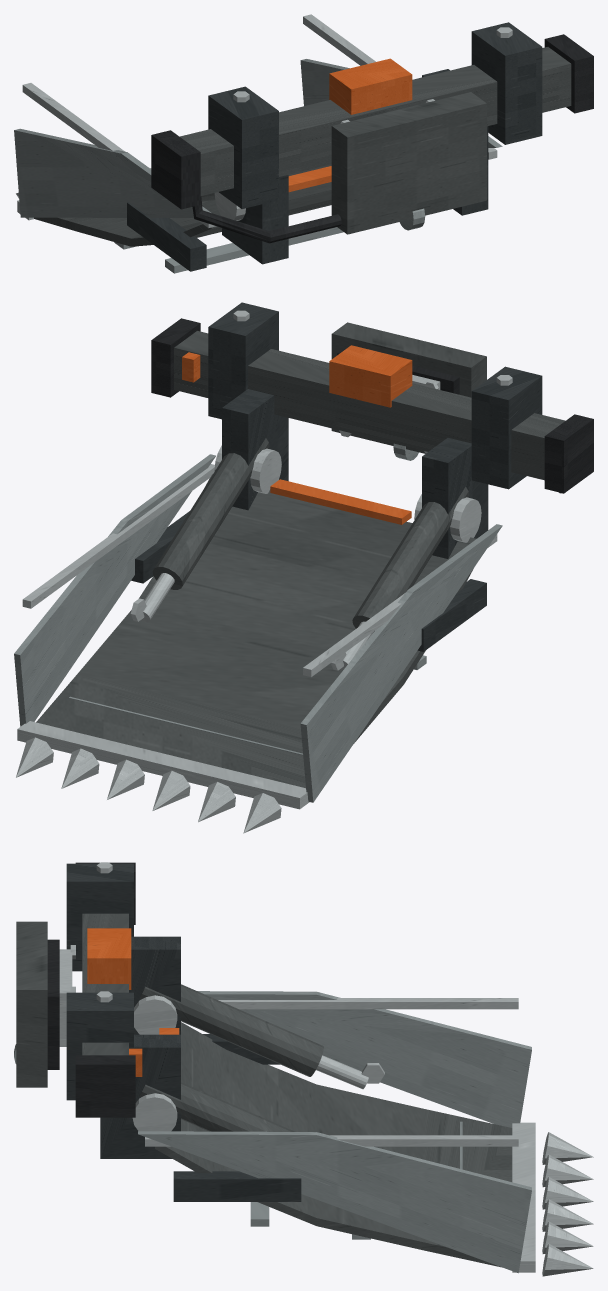
File: gary_scoop.glb
3 views of the same model, one above another, from view 1: azimuth 30°, elevation 25°; view 2: azimuth 150°, elevation 25°; view 3: azimuth 270°, elevation 25° (orthographic).
Visible parts, largest first — view 1: rear_key_plate_dark_alloy, cross_bar_dark_alloy, side_cheek_-1_alloy, bracket_R_graphite, bracket_L_graphite, scoop_bowl_dark_alloy, front_tool_latch_orange, bar_endcap_L_black_rubber, bucket_pivot_pylon_-1_graphite, cheek_reinforcement_-1_graphite, bar_endcap_R_black_rubber, main_supply_lead_black_rubber (+7 smaller); view 2: scoop_bowl_dark_alloy, cross_bar_dark_alloy, side_cheek_-1_alloy, side_cheek_1_alloy, bracket_L_graphite, cutting_edge_satin_steel, bracket_R_graphite, scoop_hydraulic_body_1_dark_alloy, rear_key_plate_dark_alloy, scoop_hydraulic_body_-1_dark_alloy, bucket_pivot_pylon_1_graphite, bucket_pivot_pylon_-1_graphite (+17 smaller); view 3: side_cheek_1_alloy, scoop_bowl_dark_alloy, side_cheek_-1_alloy, scoop_hydraulic_body_-1_dark_alloy, rear_key_plate_dark_alloy, bucket_pivot_pylon_1_graphite, bracket_L_graphite, bracket_R_graphite, bar_endcap_R_black_rubber, cheek_reinforcement_1_graphite, side_rail_-1_satin_steel, bucket_pivot_pylon_-1_graphite (+17 smaller).
Part boxes in pixels (x1=…): rear_key_plate_dark_alloy: x1=331, y1=92, x2=486, y2=234; cross_bar_dark_alloy: x1=180, y1=47, x2=571, y2=195; side_cheek_-1_alloy: x1=14, y1=128, x2=210, y2=217; bracket_R_graphite: x1=471, y1=22, x2=542, y2=144; bracket_L_graphite: x1=208, y1=86, x2=278, y2=208; scoop_bowl_dark_alloy: x1=34, y1=164, x2=331, y2=246; front_tool_latch_orange: x1=329, y1=58, x2=412, y2=114; bar_endcap_L_black_rubber: x1=151, y1=130, x2=200, y2=209; bucket_pivot_pylon_-1_graphite: x1=222, y1=175, x2=288, y2=264; cheek_reinforcement_-1_graphite: x1=127, y1=202, x2=206, y2=271; bar_endcap_R_black_rubber: x1=544, y1=34, x2=593, y2=113; main_supply_lead_black_rubber: x1=192, y1=196, x2=341, y2=243; scoop_bowl_dark_alloy: x1=36, y1=474, x2=476, y2=788; cross_bar_dark_alloy: x1=174, y1=331, x2=565, y2=480; side_cheek_-1_alloy: x1=300, y1=524, x2=502, y2=802; side_cheek_1_alloy: x1=14, y1=454, x2=215, y2=726; bracket_L_graphite: x1=471, y1=366, x2=542, y2=489; cutting_edge_satin_steel: x1=17, y1=721, x2=309, y2=809; bracket_R_graphite: x1=208, y1=302, x2=278, y2=419; scoop_hydraulic_body_1_dark_alloy: x1=152, y1=438, x2=269, y2=589; rear_key_plate_dark_alloy: x1=331, y1=322, x2=486, y2=453; scoop_hydraulic_body_-1_dark_alloy: x1=352, y1=487, x2=469, y2=632; bucket_pivot_pylon_1_graphite: x1=222, y1=389, x2=288, y2=510; bucket_pivot_pylon_-1_graphite: x1=422, y1=438, x2=488, y2=558; side_cheek_1_alloy: x1=138, y1=1131, x2=531, y2=1273; scoop_bowl_dark_alloy: x1=155, y1=1022, x2=512, y2=1267; side_cheek_-1_alloy: x1=197, y1=991, x2=531, y2=1127; scoop_hydraulic_body_-1_dark_alloy: x1=139, y1=984, x2=323, y2=1076; rear_key_plate_dark_alloy: x1=16, y1=921, x2=47, y2=1087; bucket_pivot_pylon_1_graphite: x1=100, y1=1034, x2=180, y2=1158; bracket_L_graphite: x1=66, y1=863, x2=133, y2=971; bracket_R_graphite: x1=66, y1=992, x2=133, y2=1100; bar_endcap_R_black_rubber: x1=75, y1=1055, x2=135, y2=1117; cheek_reinforcement_1_graphite: x1=173, y1=1171, x2=301, y2=1201; side_rail_-1_satin_steel: x1=218, y1=998, x2=518, y2=1009; bucket_pivot_pylon_-1_graphite: x1=129, y1=936, x2=180, y2=1034.
Size of the model in its own units: 0.533 by 0.3553 by 0.6459.
Materials: 6 (6 with a texture image).
